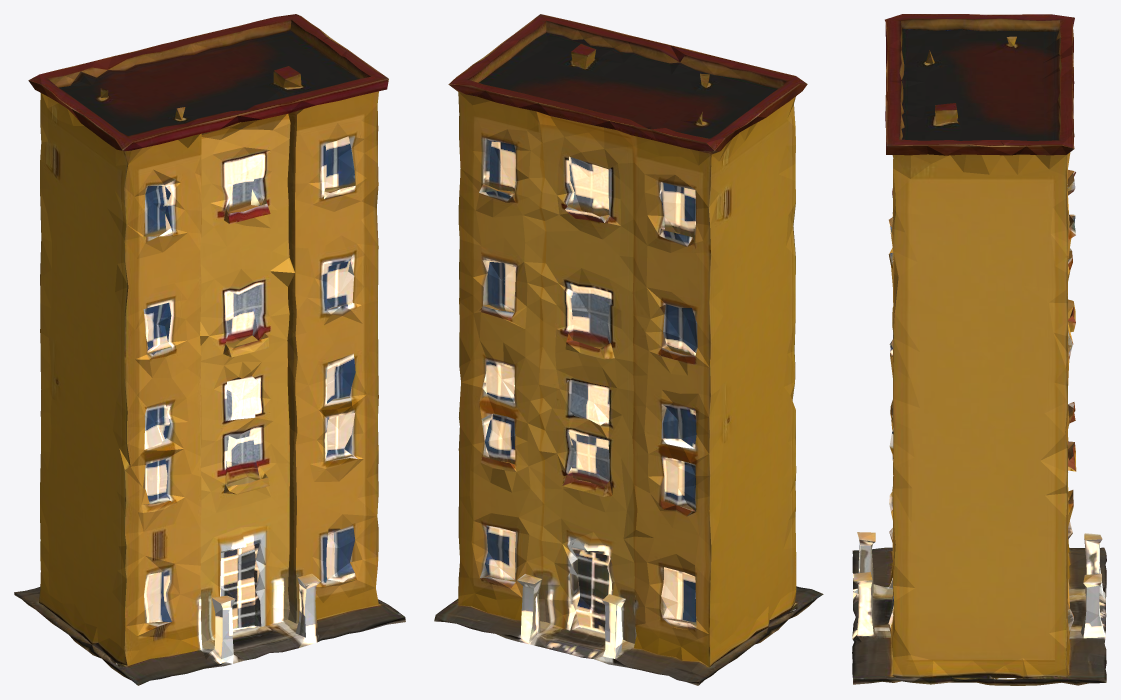
Rendered from city_apartments_night.glb.
3 renders of one model, left to right at view 1: azimuth 30°, elevation 25°; view 2: azimuth 150°, elevation 25°; view 3: azimuth 270°, elevation 25°, orthographic.
Parts seen in each view (by area): view 1: m; view 2: m; view 3: m.
Part boxes in pixels (bbox=[...]): m: bbox=[14, 14, 405, 685]; m: bbox=[434, 14, 823, 685]; m: bbox=[852, 14, 1106, 685].
Size of the model in its own units: 9.45 by 18 by 7.65.
Materials: 1 (1 with a texture image).
